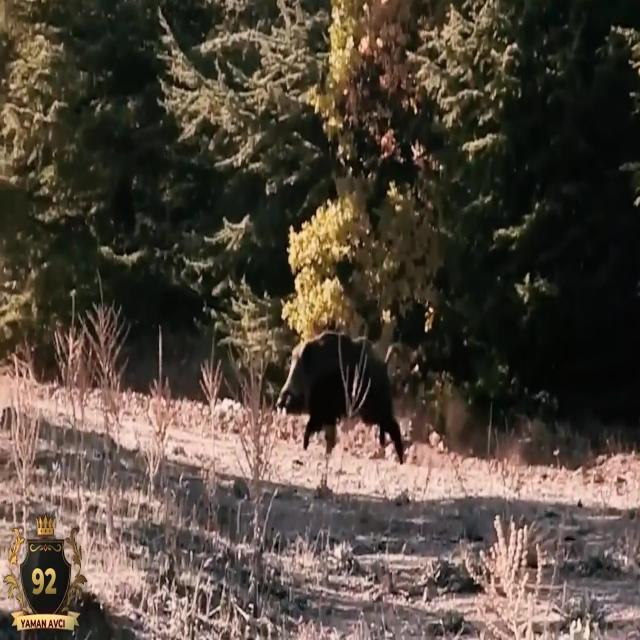pig: (272, 303, 408, 507)
